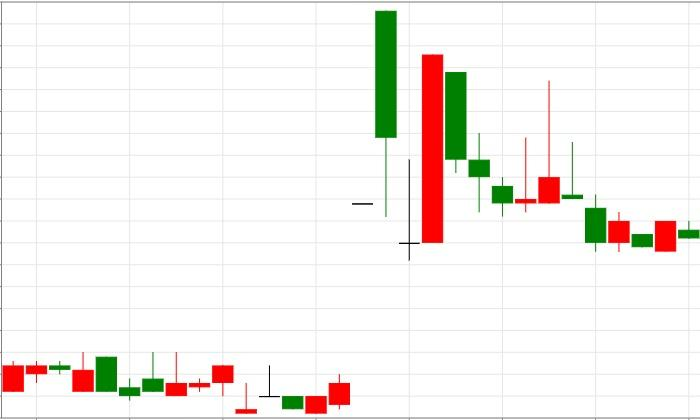bullish_engulfing_rise: (537, 80, 677, 252)
three_black_crows_fall: (398, 54, 514, 261)
